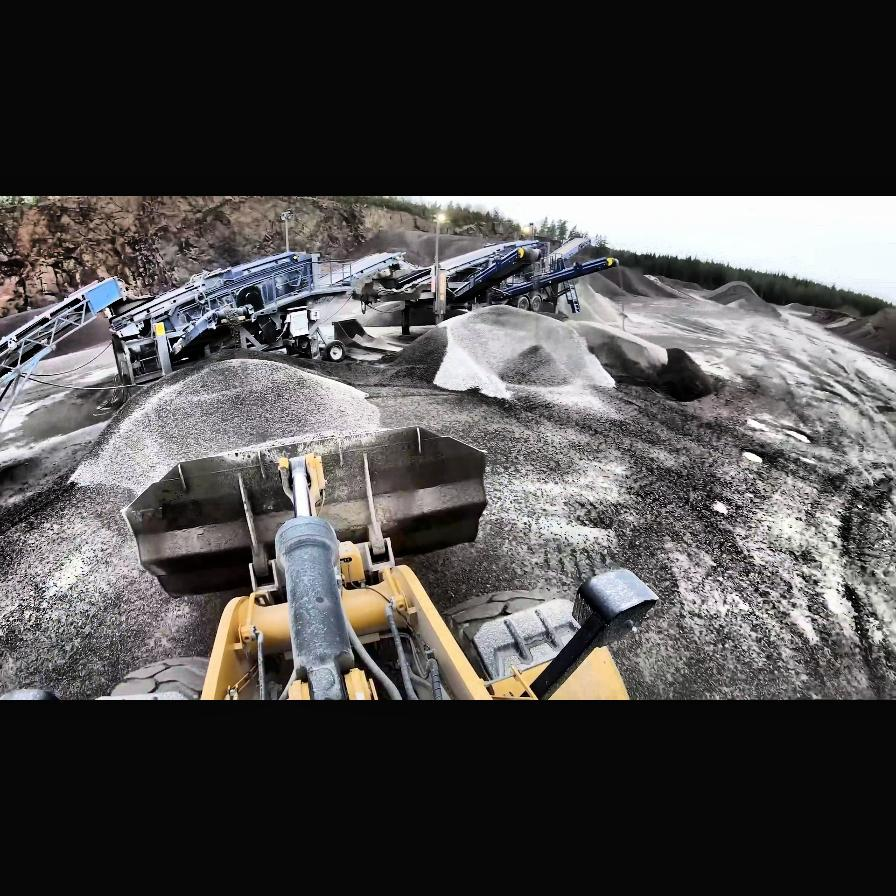anchor: (278, 452, 328, 516)
pile of gravel: (76, 360, 386, 476), (373, 304, 724, 404), (820, 292, 896, 360), (590, 264, 678, 298), (696, 282, 778, 312), (808, 308, 852, 324), (786, 302, 824, 316)
